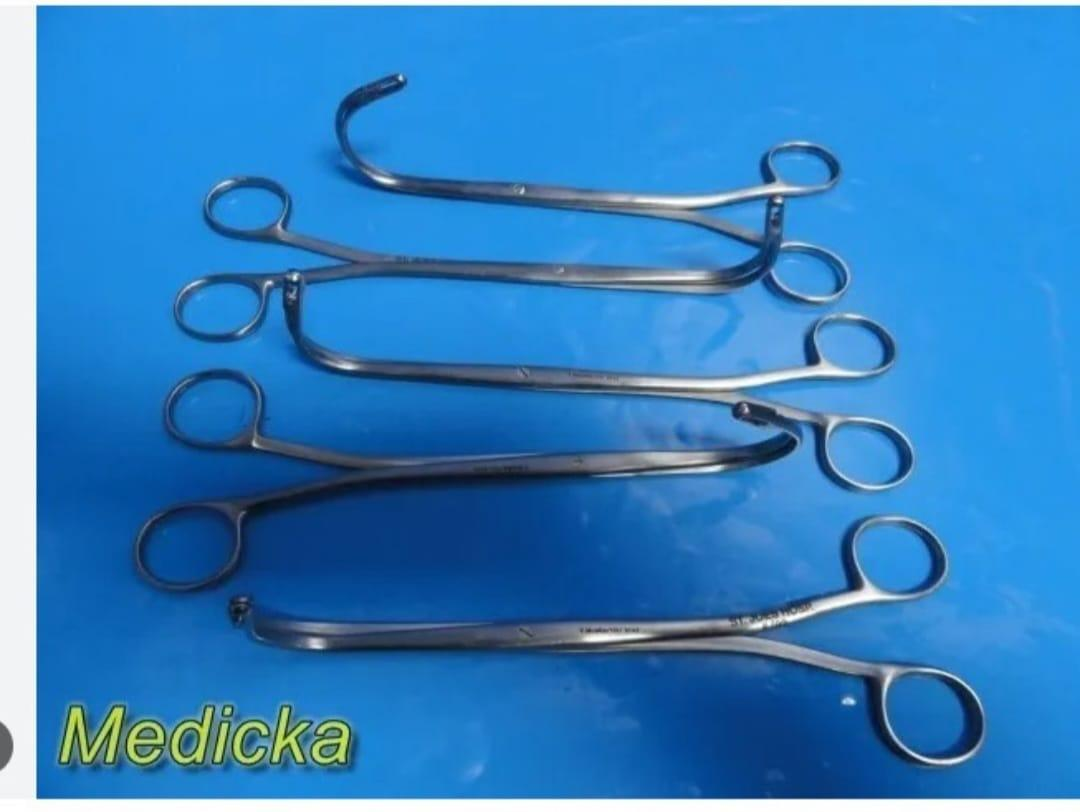Randall Forceps: (224, 508, 996, 771), (121, 346, 810, 593), (270, 263, 929, 496), (338, 65, 866, 309), (165, 154, 796, 345)
